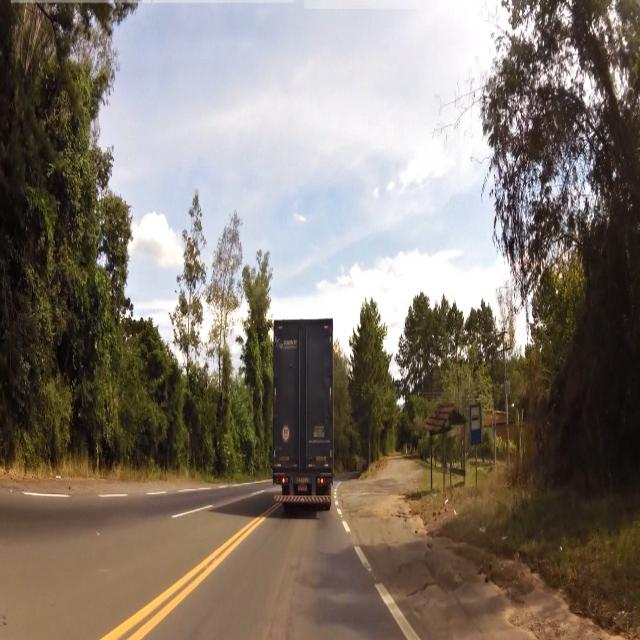S-14: (470, 404, 482, 446)
